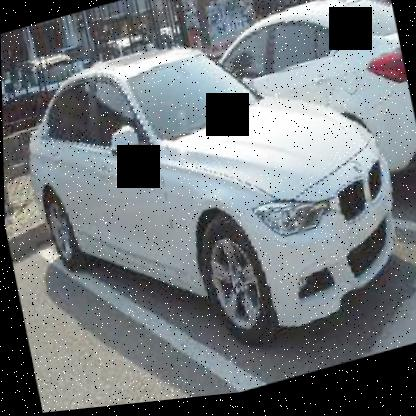not_emergency: (6, 0, 356, 370)
